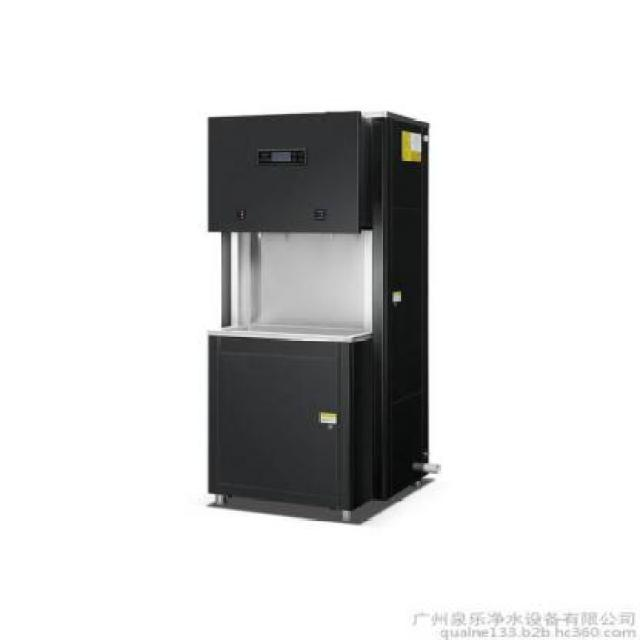cooler: (203, 110, 443, 528)
